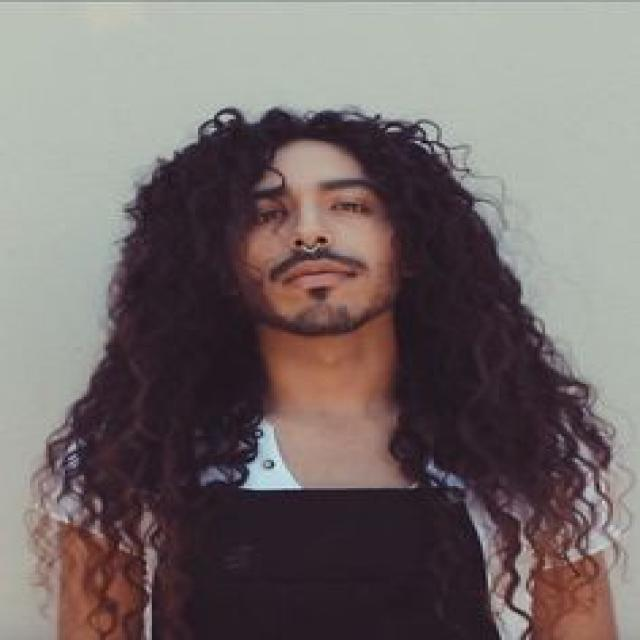human: (42, 91, 630, 640)
